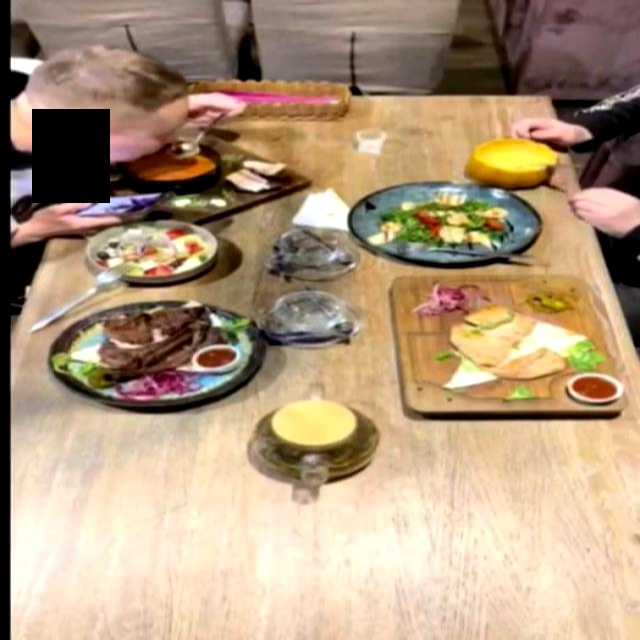meat: (382, 272, 632, 429), (46, 299, 264, 407)
salad: (350, 182, 543, 265), (84, 219, 219, 283)
soup: (100, 152, 319, 209), (466, 136, 559, 187)
tea: (232, 383, 397, 493)
